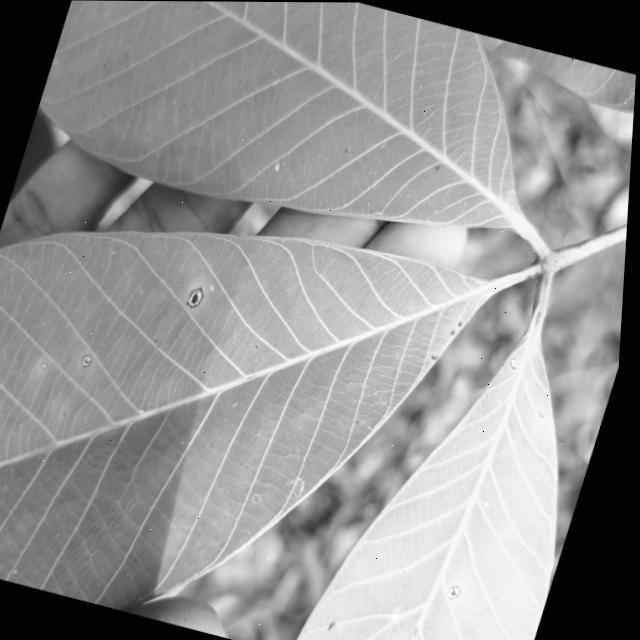Colletotrichum: (188, 284, 208, 309), (451, 583, 469, 600), (83, 353, 97, 369), (511, 356, 522, 368)
